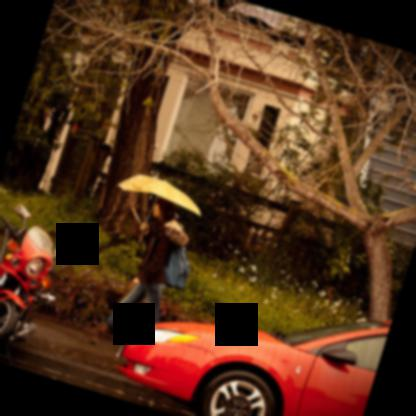backpack: (162, 245, 190, 290)
